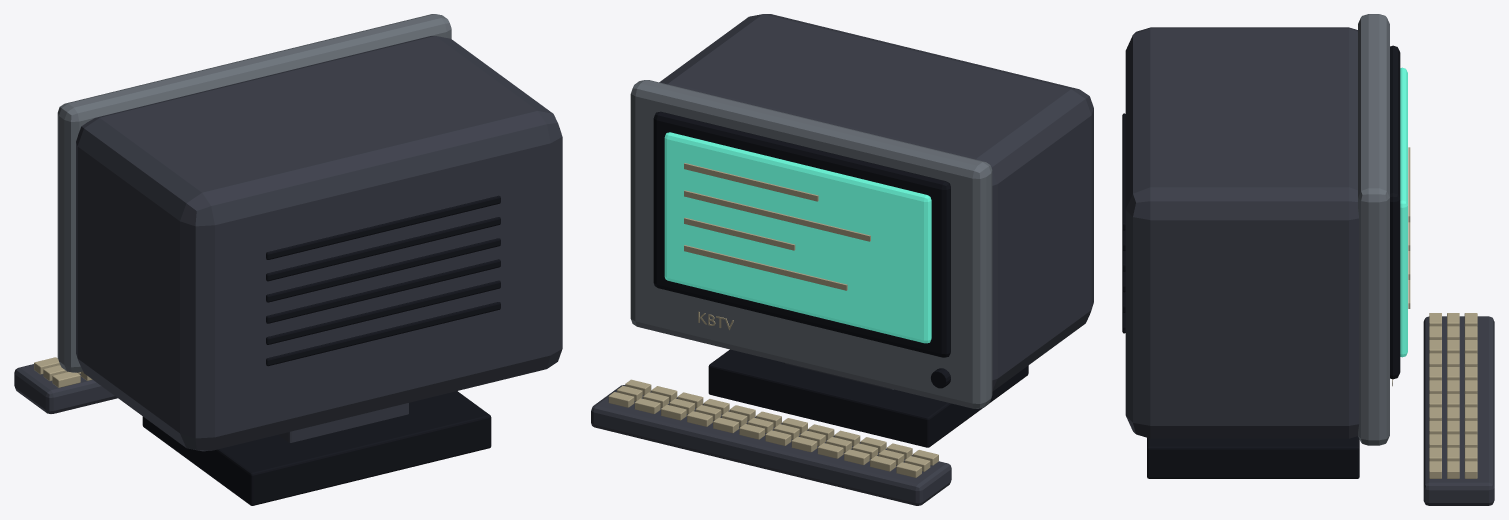
File: crt_computer.glb
3 renders of one model, left to right at view 1: azimuth 30°, elevation 25°; view 2: azimuth 150°, elevation 25°; view 3: azimuth 270°, elevation 25°, orthographic. The views are drawn at different scales.
Visible parts, largest first — view 1: crt_computer; view 2: crt_computer; view 3: crt_computer.
Part boxes in pixels (x1,y1,x2,y2): crt_computer: [14, 14, 562, 505]; crt_computer: [591, 14, 1093, 505]; crt_computer: [1122, 14, 1494, 505].
Size of the model in its own units: 0.61 by 0.5 by 0.5245.
